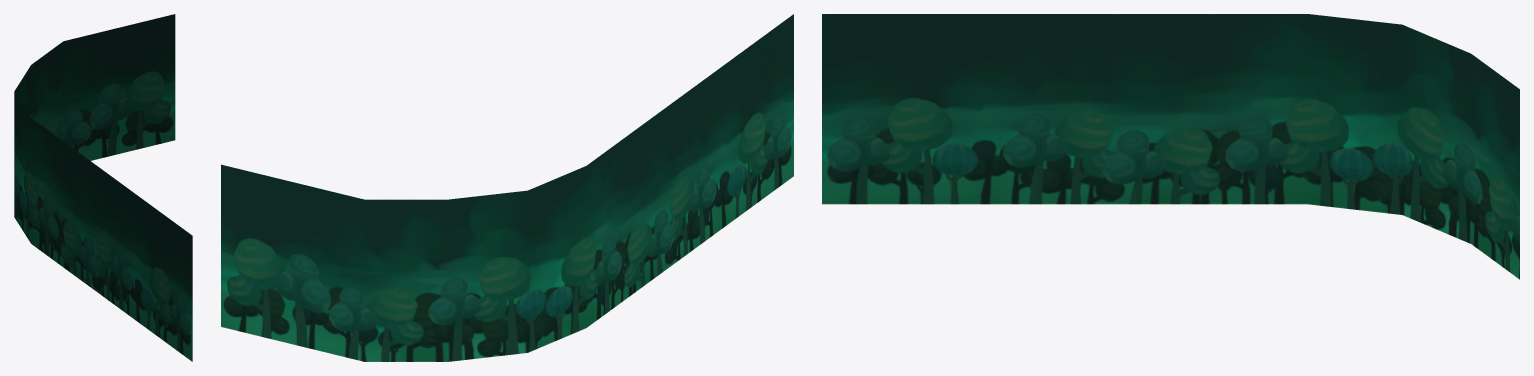
The picture shows the model from 3 angles, left to right: view 1: azimuth 30°, elevation 25°; view 2: azimuth 150°, elevation 25°; view 3: azimuth 270°, elevation 25°; orthographic projection. The views are drawn at different scales.
Visible parts, largest first — view 1: OP_BG1; view 2: OP_BG1; view 3: OP_BG1.
Part boxes in pixels (<box>): OP_BG1: <box>14,14,192,361</box>; OP_BG1: <box>221,14,793,361</box>; OP_BG1: <box>822,14,1519,279</box>.
Bounding box in the file's own units: 11510 × 6488 × 21545.
